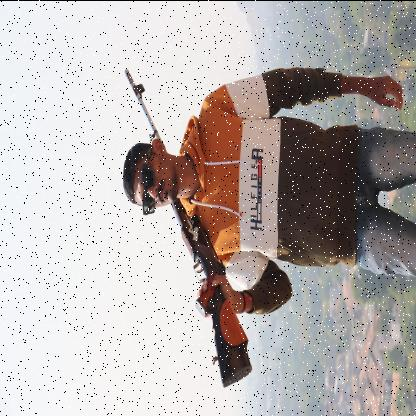rifle: (124, 66, 254, 388)
